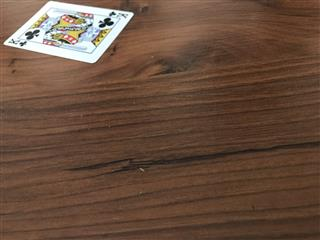KingOfClubs: (2, 1, 134, 63)
